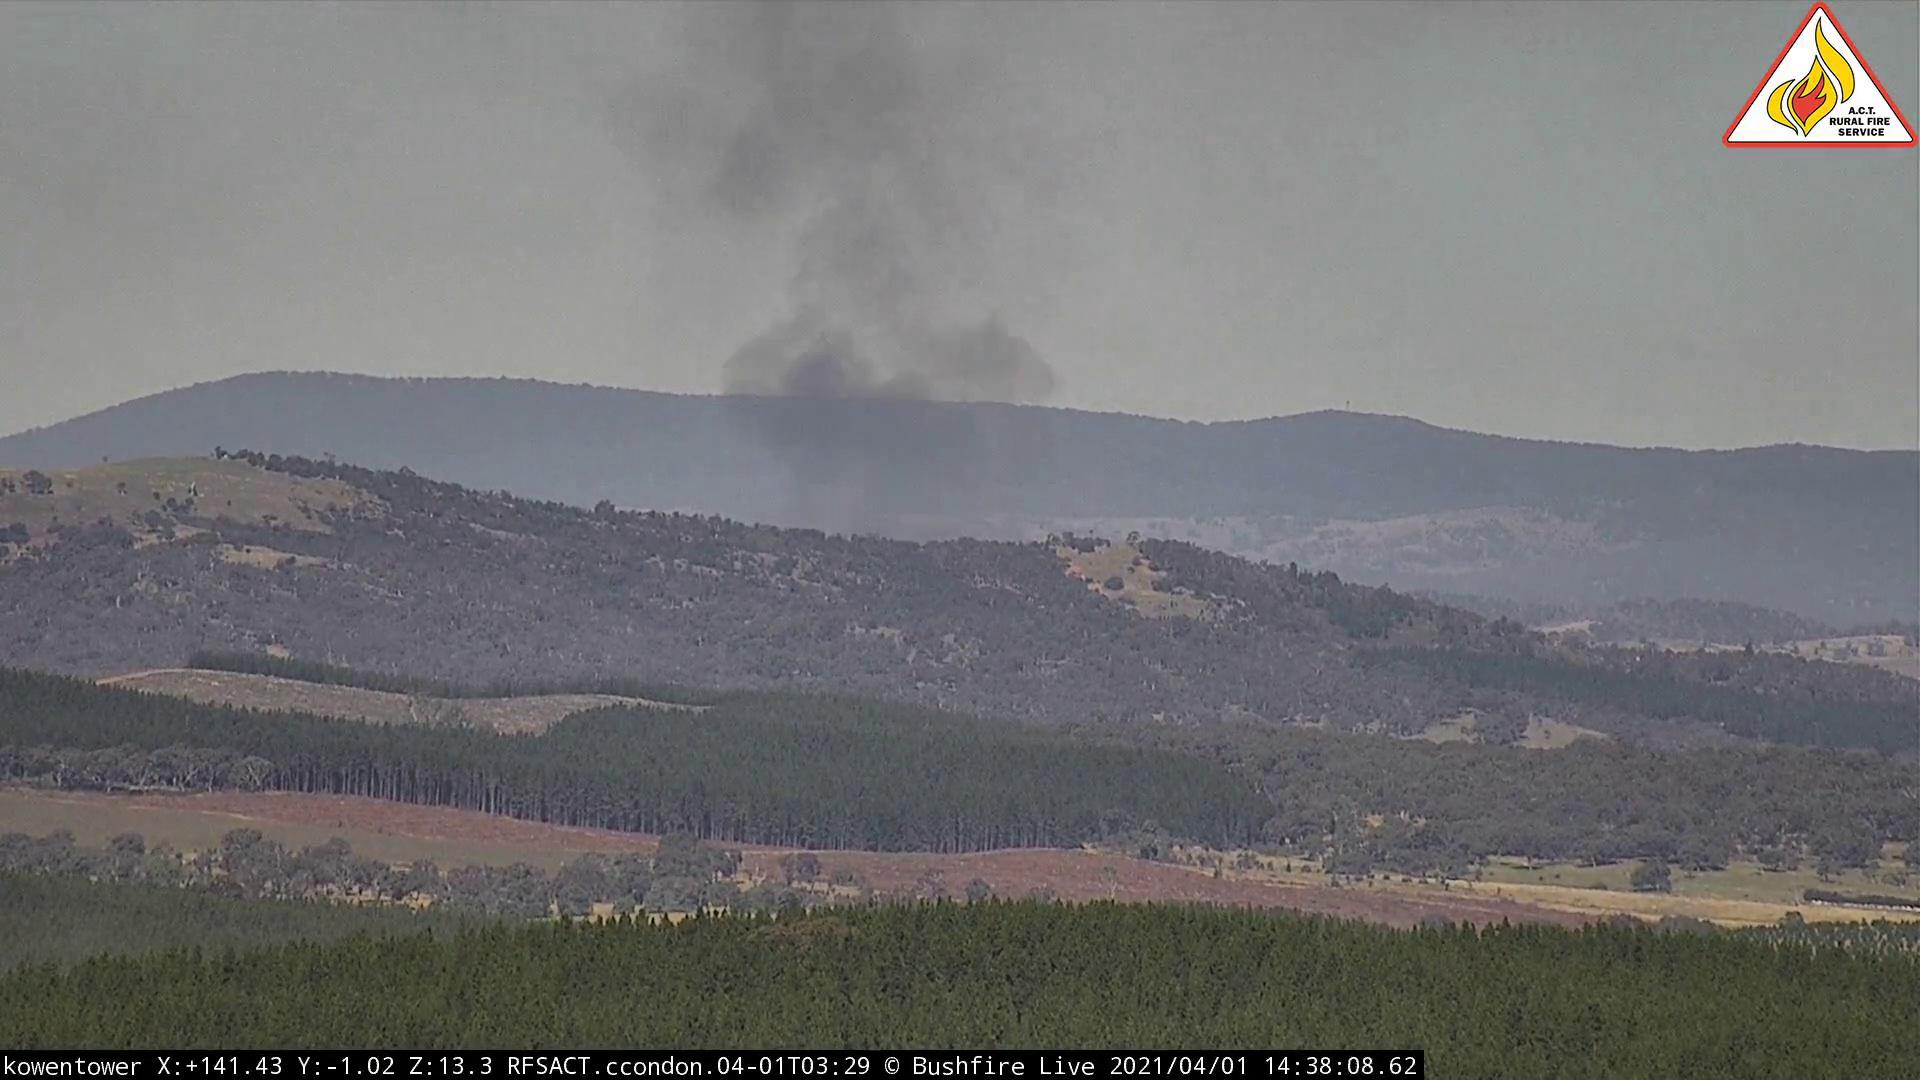Smoke: (541, 3, 1096, 572)
